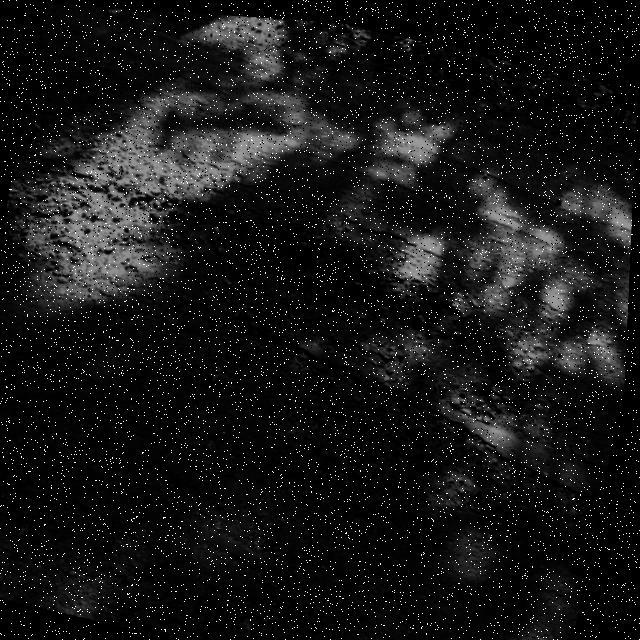pothole: (130, 182, 526, 396)
